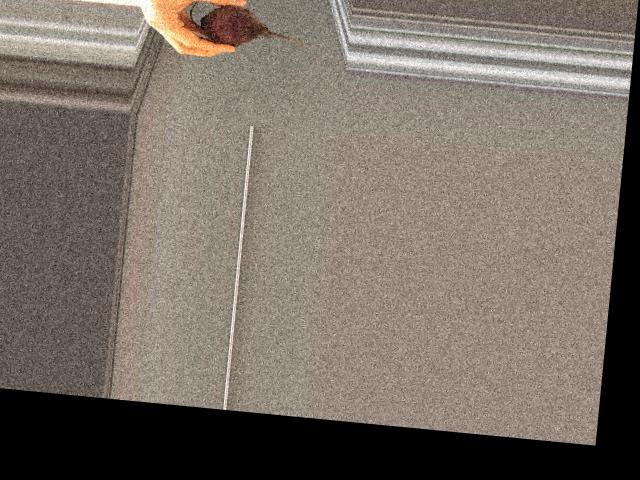beet: (188, 0, 316, 52)
